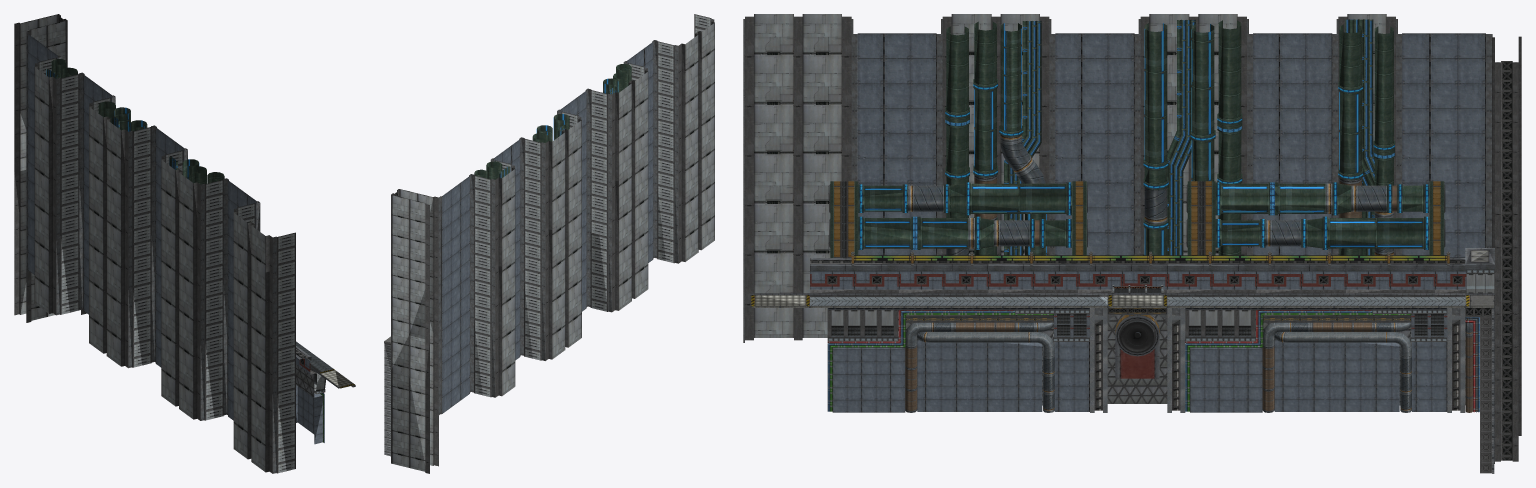
File: stg310_15.obj
3 renders of one model, left to right at view 1: azimuth 30°, elevation 25°; view 2: azimuth 150°, elevation 25°; view 3: azimuth 270°, elevation 25°, orthographic. The views are drawn at different scales.
Visible parts, largest first — view 1: polygon45, polygon46, polygon44, polygon47, polygon21, polygon23, polygon14, polygon15; view 2: polygon45, polygon46, polygon21, polygon47, polygon44, polygon23, polygon8; view 3: polygon47, polygon45, polygon23, polygon14, polygon0, polygon44, polygon11, polygon39, polygon27, polygon21, polygon26, polygon34 (+22 smaller).
Part boxes in pixels (x1=…): polygon45: x1=34, y1=63, x2=272, y2=473; polygon46: x1=38, y1=57, x2=295, y2=473; polygon44: x1=26, y1=31, x2=277, y2=473; polygon47: x1=27, y1=33, x2=256, y2=420; polygon21: x1=14, y1=14, x2=67, y2=322; polygon23: x1=46, y1=58, x2=224, y2=184; polygon14: x1=296, y1=385, x2=322, y2=444; polygon15: x1=296, y1=364, x2=314, y2=397; polygon45: x1=495, y1=20, x2=714, y2=397; polygon46: x1=474, y1=14, x2=711, y2=397; polygon21: x1=391, y1=189, x2=438, y2=473; polygon47: x1=442, y1=42, x2=653, y2=413; polygon44: x1=438, y1=18, x2=713, y2=415; polygon23: x1=474, y1=64, x2=631, y2=179; polygon8: x1=384, y1=343, x2=390, y2=456; polygon47: x1=857, y1=33, x2=1485, y2=257; polygon45: x1=745, y1=14, x2=1395, y2=340; polygon23: x1=945, y1=19, x2=1394, y2=255; polygon14: x1=832, y1=340, x2=1447, y2=412; polygon0: x1=830, y1=181, x2=1444, y2=257; polygon44: x1=743, y1=19, x2=1492, y2=342; polygon11: x1=810, y1=295, x2=1465, y2=341; polygon39: x1=810, y1=271, x2=1466, y2=289; polygon27: x1=827, y1=310, x2=1479, y2=412; polygon21: x1=1492, y1=36, x2=1521, y2=461; polygon26: x1=906, y1=318, x2=1477, y2=412; polygon34: x1=810, y1=248, x2=1494, y2=271.
Size of the model in its own units: 235 by 742 by 1307.
Materials: 24 (24 with a texture image).
